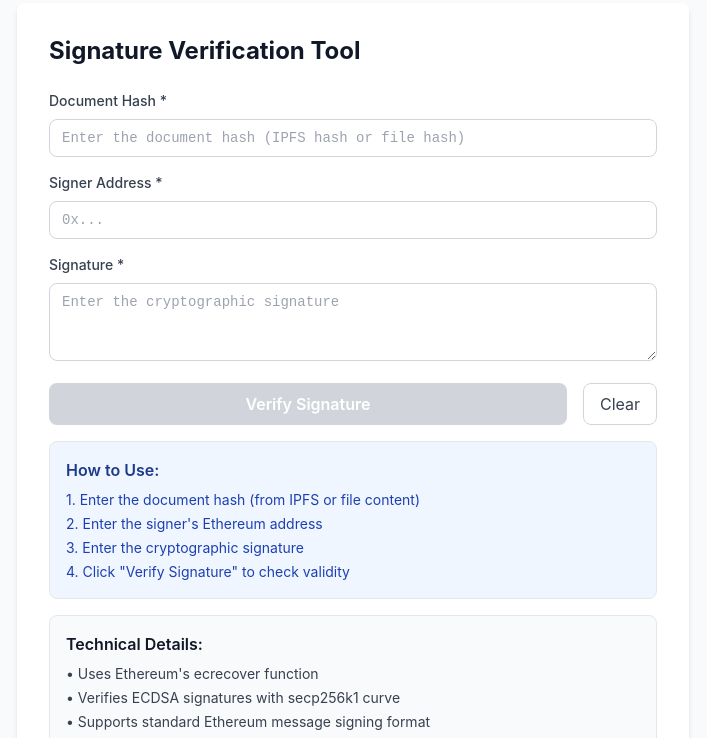
Scenario: SignatureVerifier Component › clear button resets all form fields
In the field with placeholder "Enter the document hash (IPFS hash or file hash)": (353, 138) [49,119,657,157], type "0x1234567890abcdef"
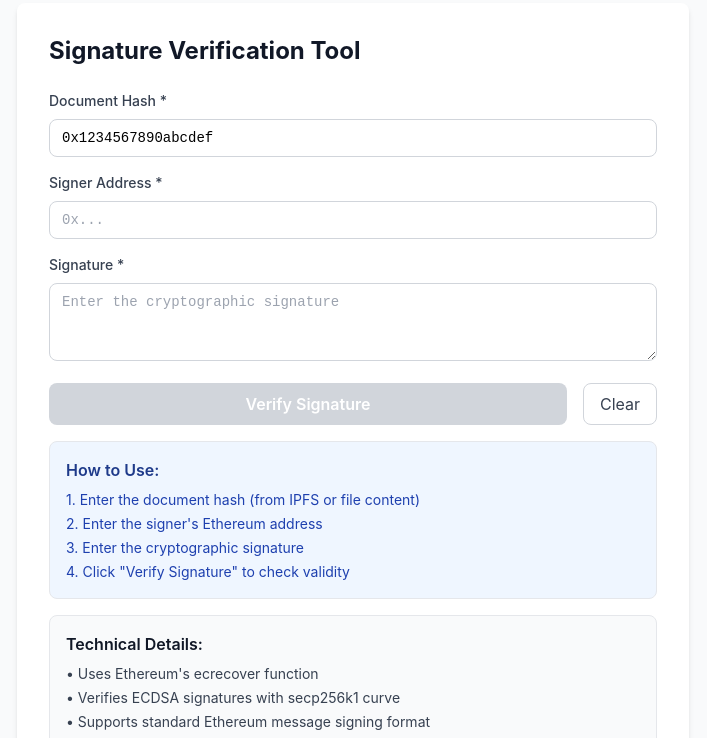
In the field with placeholder "0x...": (353, 220) [49,201,657,239], type "0xabcdef1234567890"
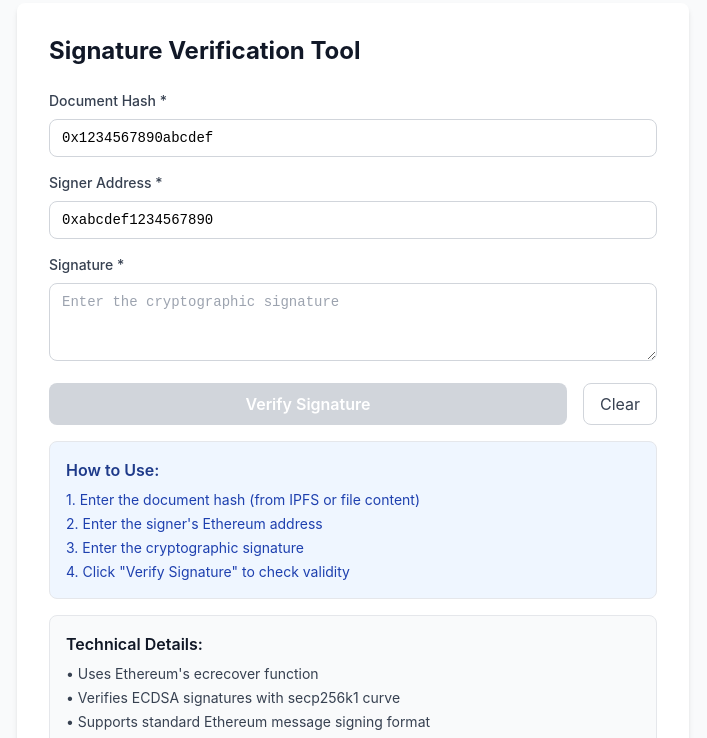
In the text box with placeholder "Enter the cryptographic signature": (353, 322) [49,283,657,361], type "0xsignature123"
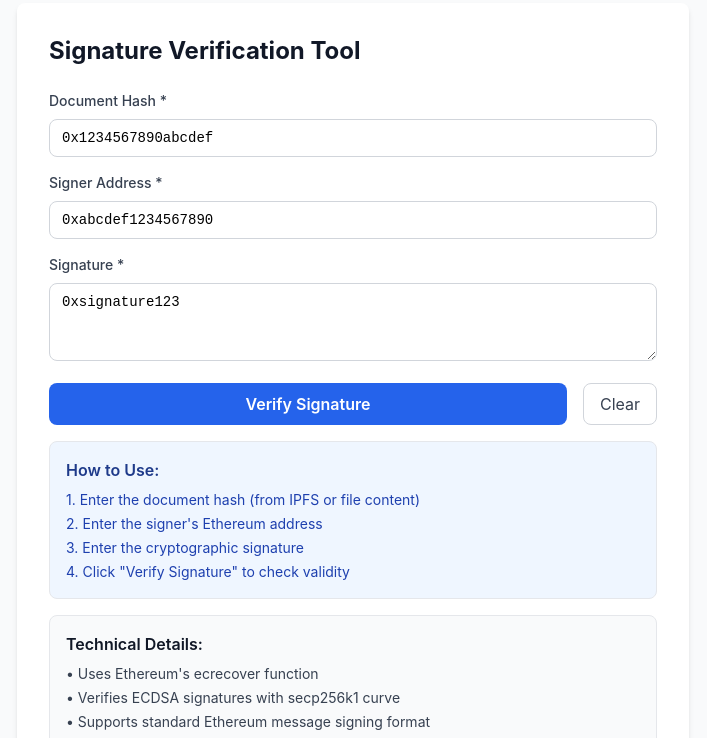
Click the button "Clear": (620, 404) [583,383,657,425]
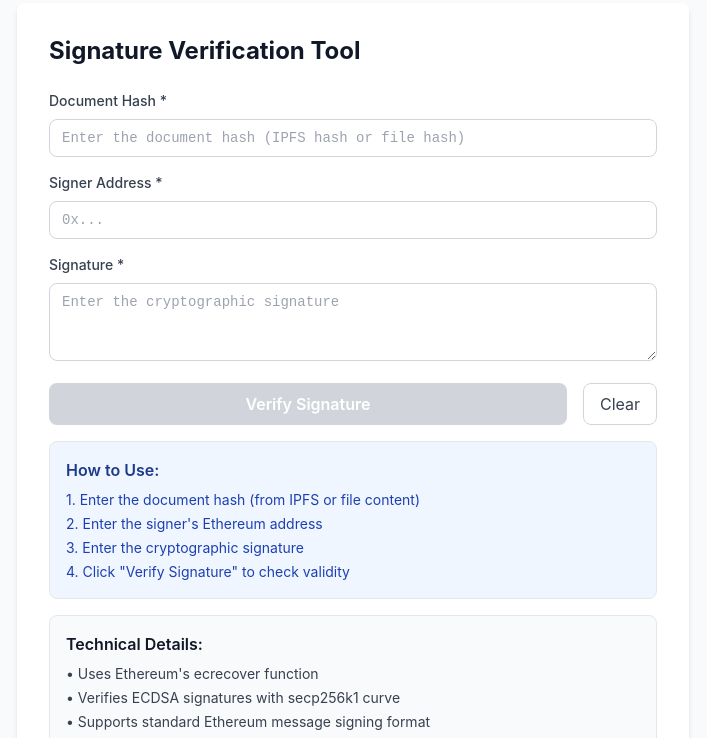
expect the field with placeholder "Enter the document hash (IPFS hash or file hash)" is empty: met, box [49,119,657,157]
expect the field with placeholder "0x..." is empty: met, box [49,201,657,239]
expect the text box with placeholder "Enter the cryptographic signature" is empty: met, box [49,283,657,361]
